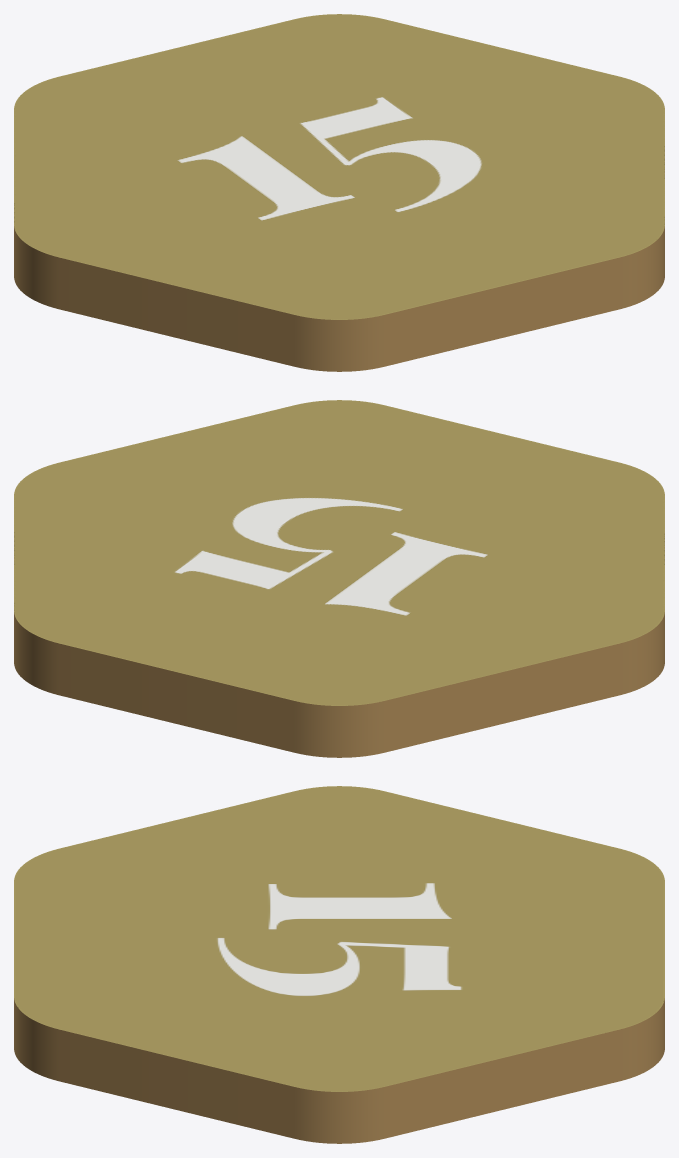
Rendered from hex_15.glb.
3 views of the same model, one above another, from view 1: azimuth 30°, elevation 25°; view 2: azimuth 150°, elevation 25°; view 3: azimuth 270°, elevation 25° (orthographic).
Parts seen in each view (by area): view 1: hex_15; view 2: hex_15; view 3: hex_15.
Part boxes in pixels (x1,y1,x2,y2): hex_15: (14,14,664,371); hex_15: (14,400,664,757); hex_15: (14,786,664,1143).
Size of the model in its own units: 0.0304 by 0.0024 by 0.0273.
3 materials, 2 textured.
